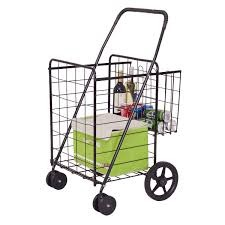with_basket: (48, 11, 180, 208)
